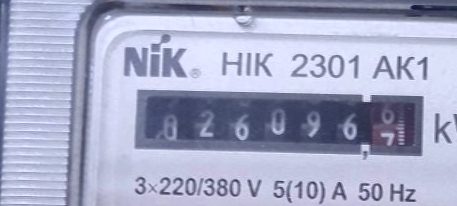0: (267, 103, 287, 138), (159, 108, 179, 140)
2: (195, 105, 216, 140)
6: (231, 108, 251, 143), (340, 107, 358, 141), (377, 98, 397, 125)
7: (377, 127, 396, 148)
9: (303, 106, 322, 139)
screen: (124, 78, 431, 166)
